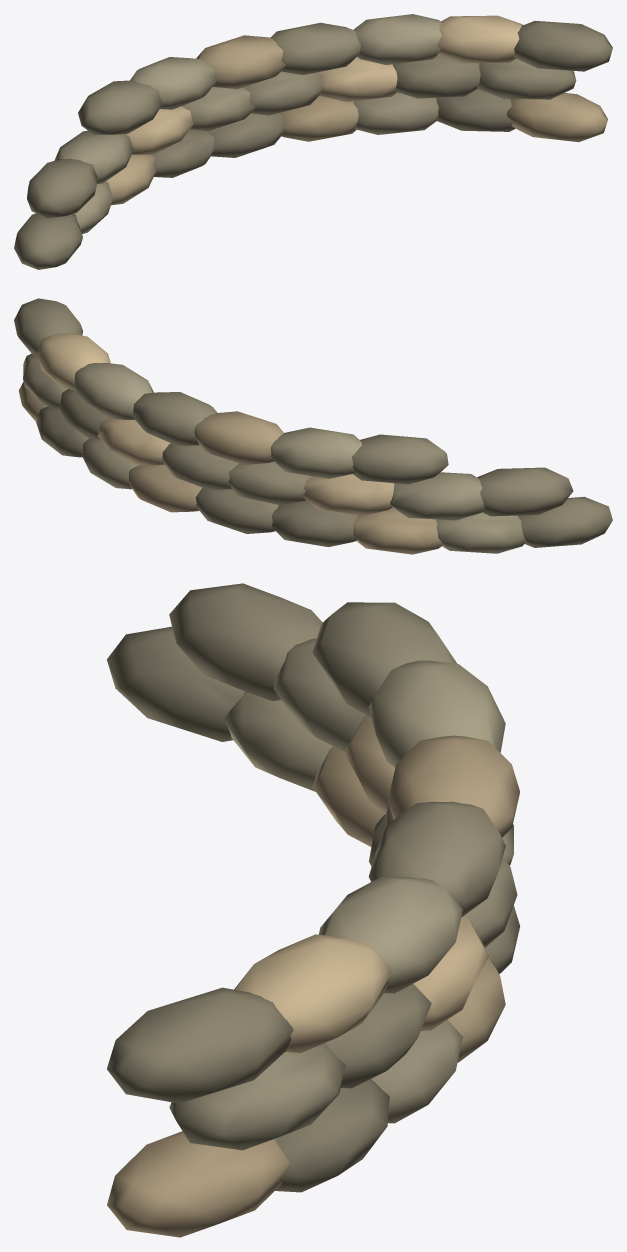
Rendered from sandbags_a_lod1.glb.
The picture shows the model from 3 angles, top to bottom: view 1: azimuth 30°, elevation 25°; view 2: azimuth 150°, elevation 25°; view 3: azimuth 270°, elevation 25°; orthographic projection. The views are drawn at different scales.
Parts seen in each view (by area): view 1: Surface.001; view 2: Surface.001; view 3: Surface.001.
Part boxes in pixels (x1,y1,x2,y2): Surface.001: (14,14,612,269); Surface.001: (14,298,612,554); Surface.001: (107,583,520,1237).
Size of the model in its own units: 7.59 by 1.36 by 2.31.
